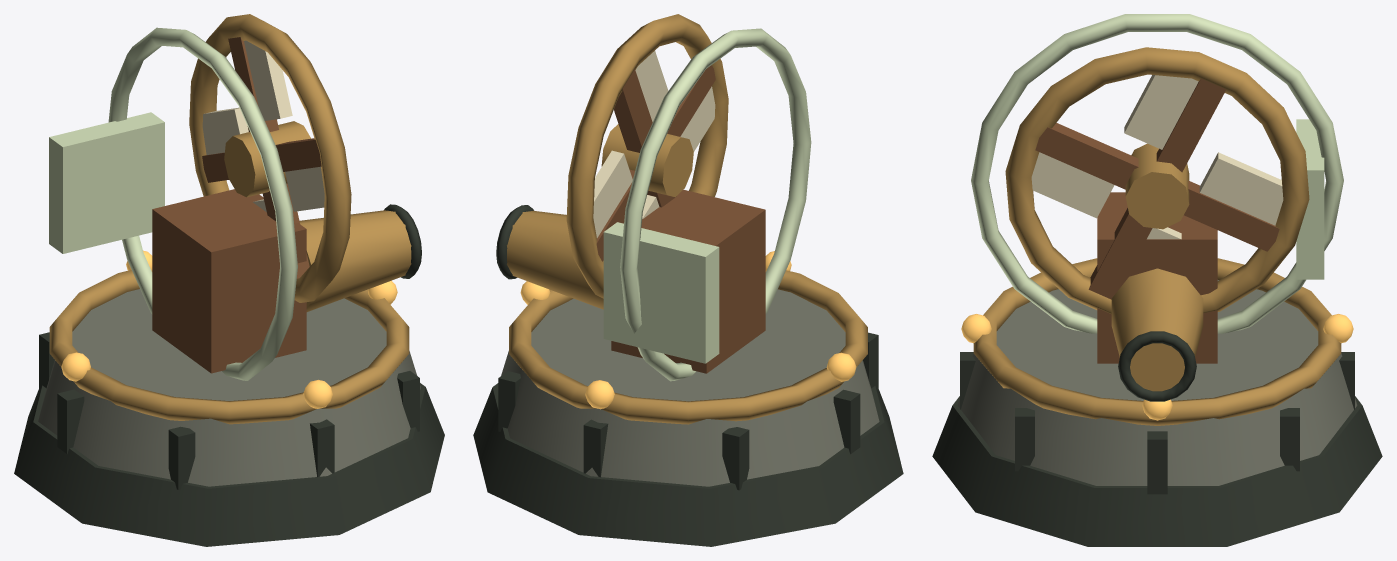
Rendered from tower_wind_windSwitch_ultimate.glb.
3 renders of one model, left to right at view 1: azimuth 30°, elevation 25°; view 2: azimuth 150°, elevation 25°; view 3: azimuth 270°, elevation 25°, orthographic. The views are drawn at different scales.
Visible parts, largest first — view 1: stone_1, foot_0, mill_15, deflector_28, guide_ring_16, rim_2, redirect_29, air_nozzle_26, hub_17, sail_21, sail_19, sail_23 (+12 smaller); view 2: stone_1, foot_0, redirect_29, deflector_28, guide_ring_16, rim_2, mill_15, air_nozzle_26, hub_17, sail_19, spar_20, mortar_8 (+11 smaller); view 3: stone_1, foot_0, guide_ring_16, redirect_29, rim_2, air_nozzle_26, mill_15, hub_17, sail_19, deflector_28, spar_22, sail_21 (+12 smaller).
Boxes of the visible parts, x1,y1,x2,y2 form: stone_1: (38,289,420,486); foot_0: (14,383,444,546); mill_15: (152,189,306,373); deflector_28: (49,112,164,253); guide_ring_16: (189,14,351,302); rim_2: (49,270,409,424); redirect_29: (108,27,297,380); air_nozzle_26: (299,210,411,311); hub_17: (224,121,310,197); sail_21: (244,40,292,120); sail_19: (202,107,248,154); sail_23: (285,166,324,211); stone_1: (497,289,879,486); foot_0: (473,383,903,546); redirect_29: (620,28,811,381); deflector_28: (603,222,719,363); guide_ring_16: (566,14,728,298); rim_2: (509,270,867,424); mill_15: (611,189,765,373); air_nozzle_26: (507,210,603,309); hub_17: (601,124,693,197); sail_19: (593,150,632,237); spar_20: (614,69,652,152); mortar_8: (722,427,749,490); stone_1: (957,280,1357,485); foot_0: (932,396,1382,546); guide_ring_16: (1005,47,1309,313); redirect_29: (971,14,1343,333); rim_2: (973,258,1341,425); air_nozzle_26: (1111,268,1203,391); mill_15: (1097,192,1217,363); hub_17: (1125,143,1189,229); sail_19: (1199,152,1283,225); deflector_28: (1296,119,1324,279); spar_22: (1035,123,1138,189); sail_21: (1124,75,1198,149).
Size of the model in its own units: 0.5326 by 0.5895 by 0.56.
